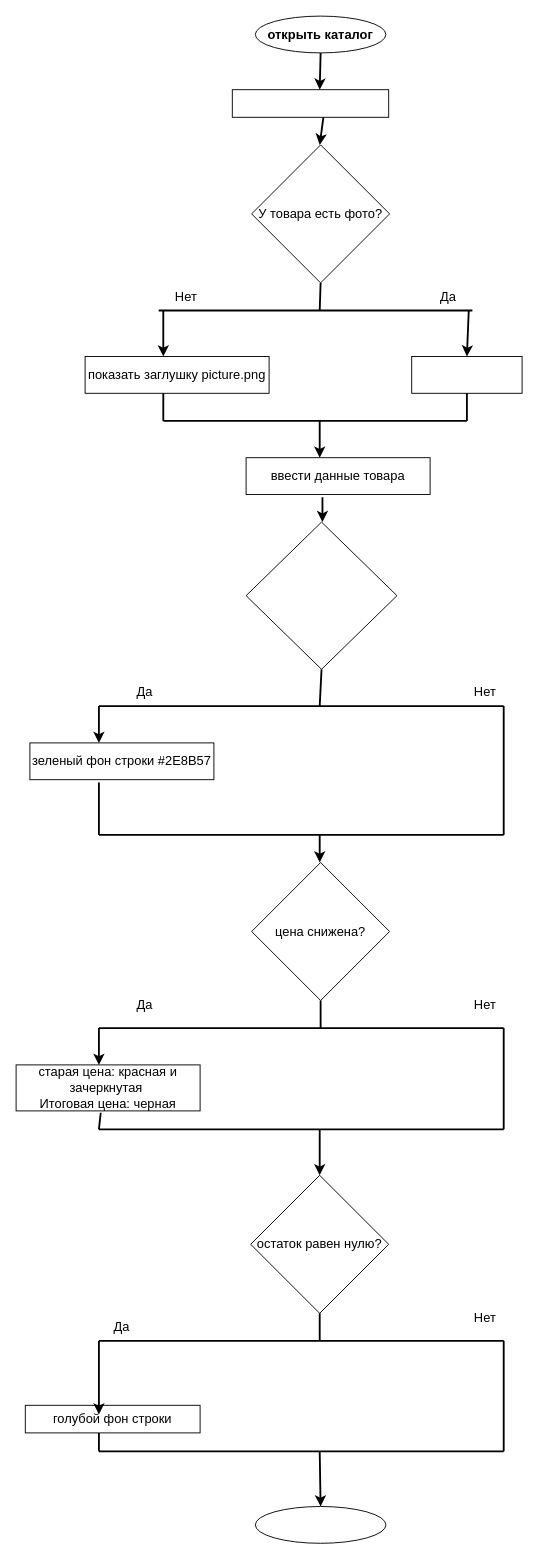
This 538x1559 diagram has some shape labels left out. Each missing label, with the box of its shape:
Окно входа: (254, 1506, 386, 1543)
показать фото товара: (411, 356, 522, 393)
получить список товаров из БД: (231, 89, 389, 117)
скидка больше 15%?: (245, 521, 397, 669)
